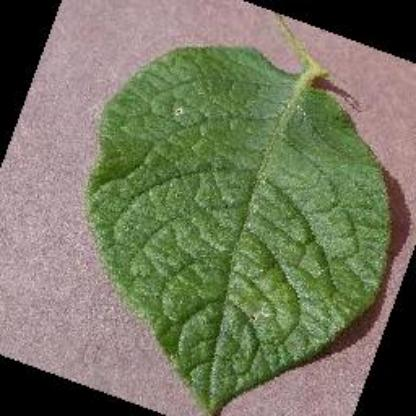Healthy-plant: (84, 32, 392, 412)
